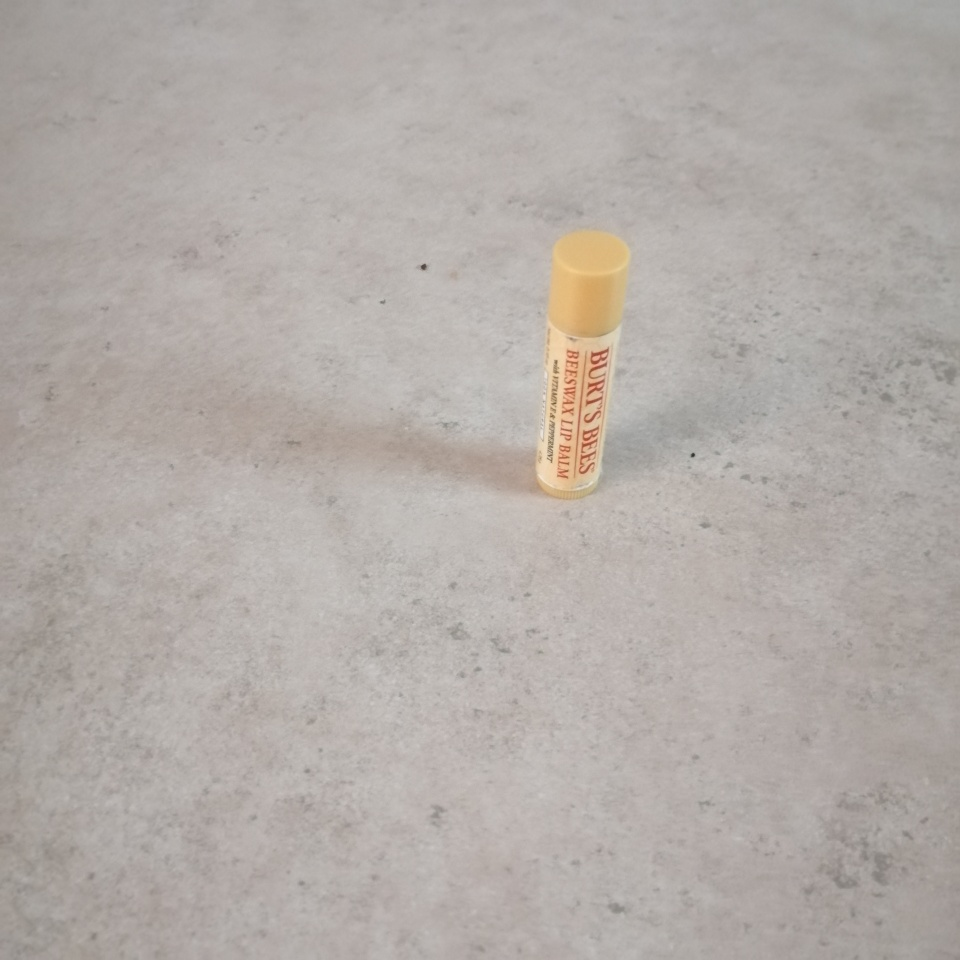chapstick: (535, 230, 632, 500)
